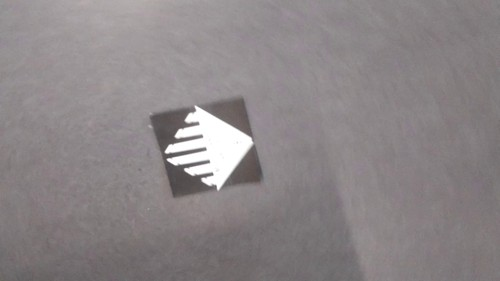misgoods: (150, 110, 265, 194)
